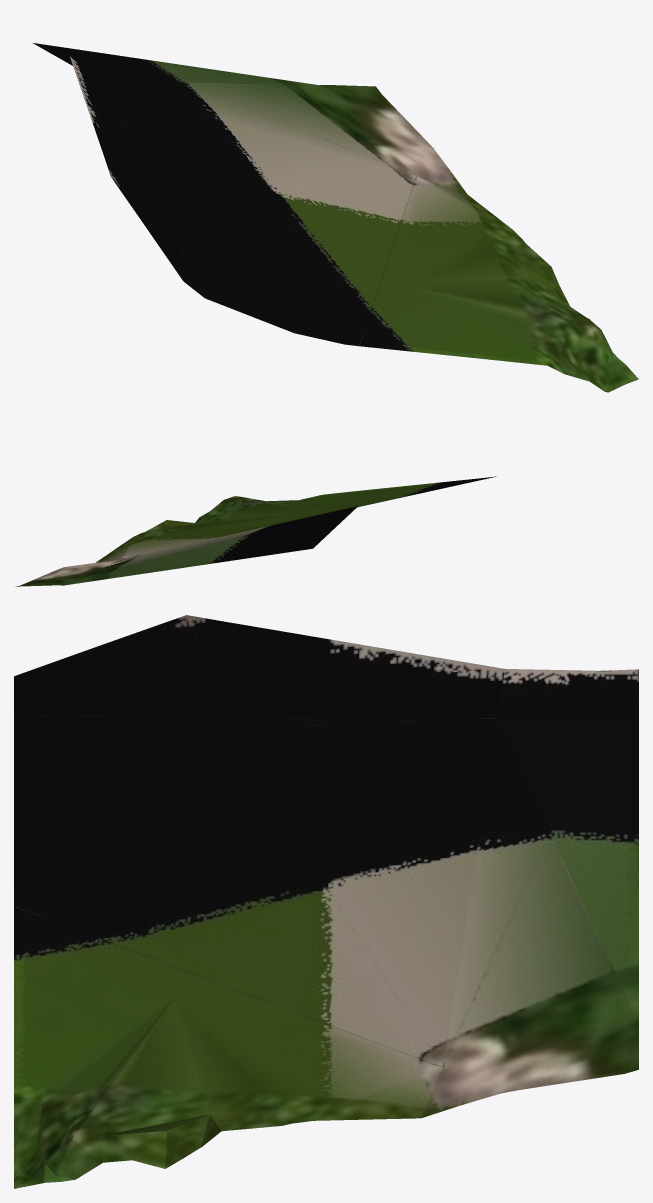
3 views of the same model, one above another, from view 1: azimuth 30°, elevation 25°; view 2: azimuth 150°, elevation 25°; view 3: azimuth 270°, elevation 25° (orthographic). The views are drawn at different scales.
Size of the model in its own units: 1.67 by 0.9361 by 1.67.
Materials: 3 (3 with a texture image).
